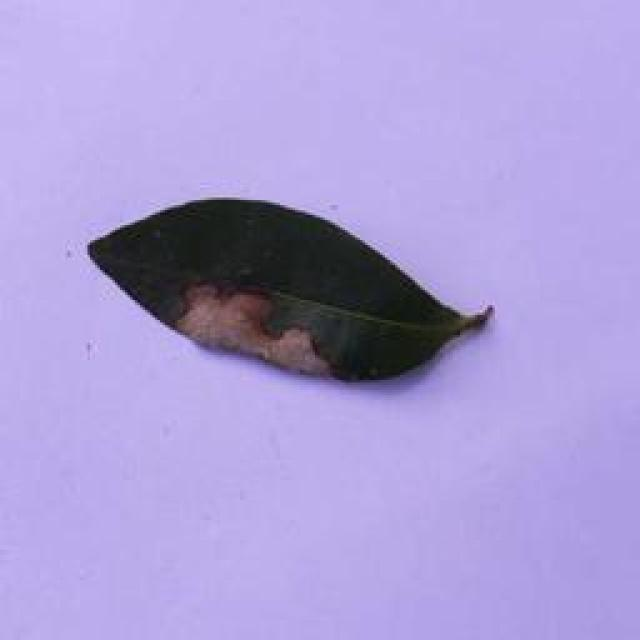Gray Blight: (83, 193, 508, 403)
